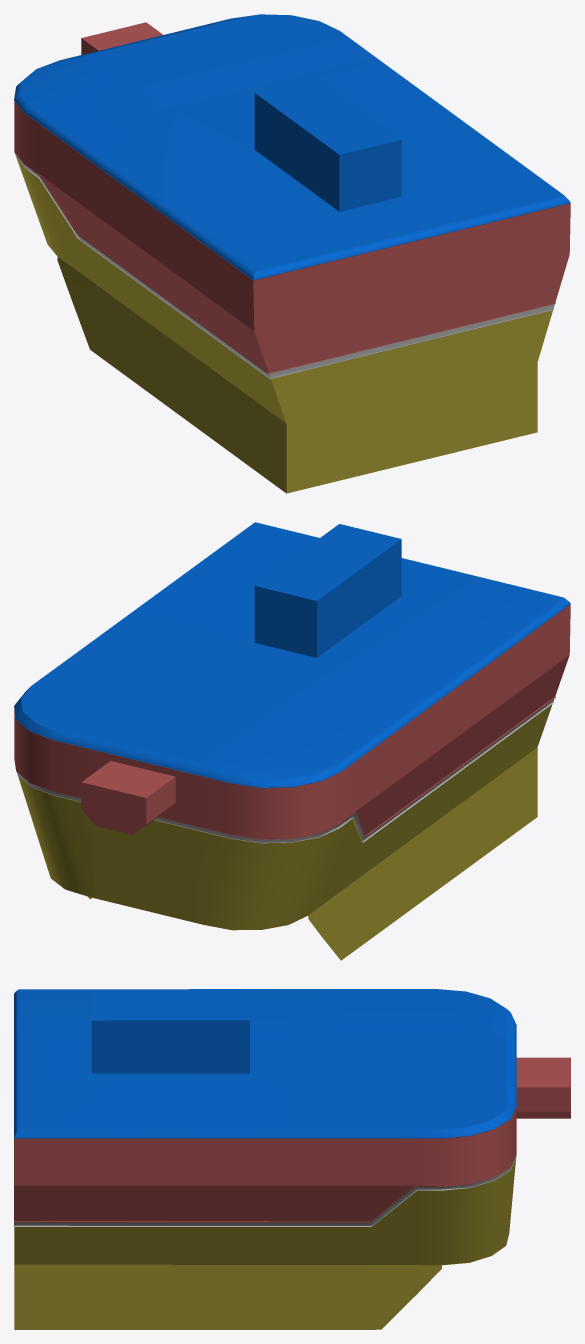
Rendered from env_challengemode_base_walls.fbx.
3 views of the same model, one above another, from view 1: azimuth 30°, elevation 25°; view 2: azimuth 150°, elevation 25°; view 3: azimuth 270°, elevation 25° (orthographic). The views are drawn at different scales.
Parts seen in each view (by area): view 1: env_challengemode_basewalls; view 2: env_challengemode_basewalls; view 3: env_challengemode_basewalls.
Boxes of the visible parts, bbox=[...] form: env_challengemode_basewalls: bbox=[14, 14, 570, 493]; env_challengemode_basewalls: bbox=[14, 522, 570, 960]; env_challengemode_basewalls: bbox=[14, 989, 570, 1329].
Size of the model in its own units: 3295 by 2827 by 5356.
